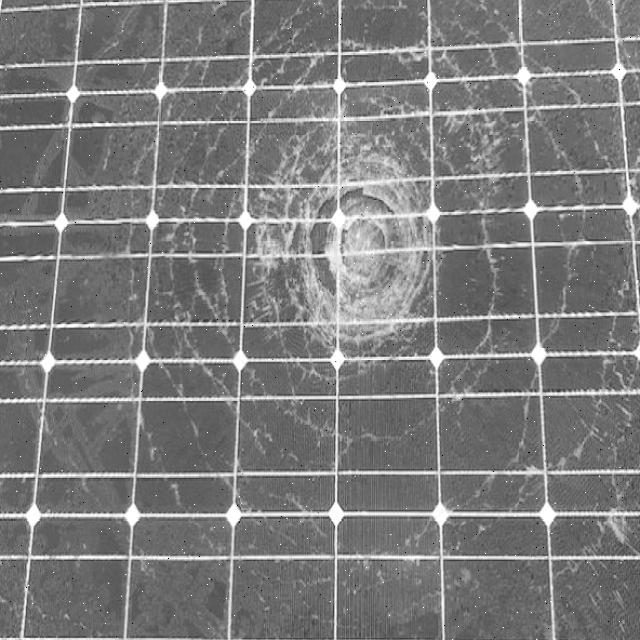Structural Damage: (138, 0, 640, 501), (231, 116, 478, 378), (547, 308, 640, 574)
